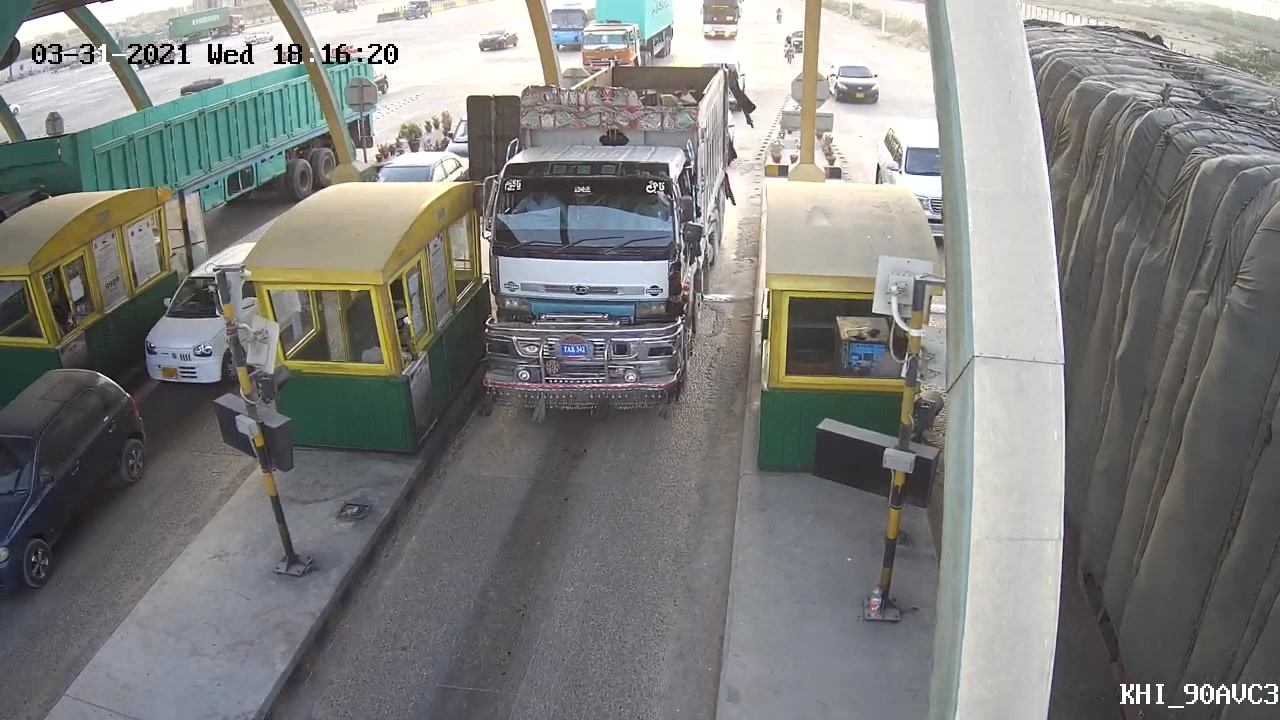F5: (469, 68, 740, 433)
